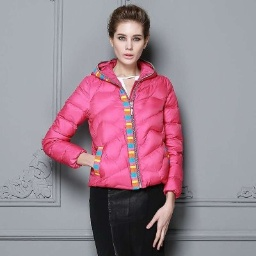face: (88, 1, 158, 74)
